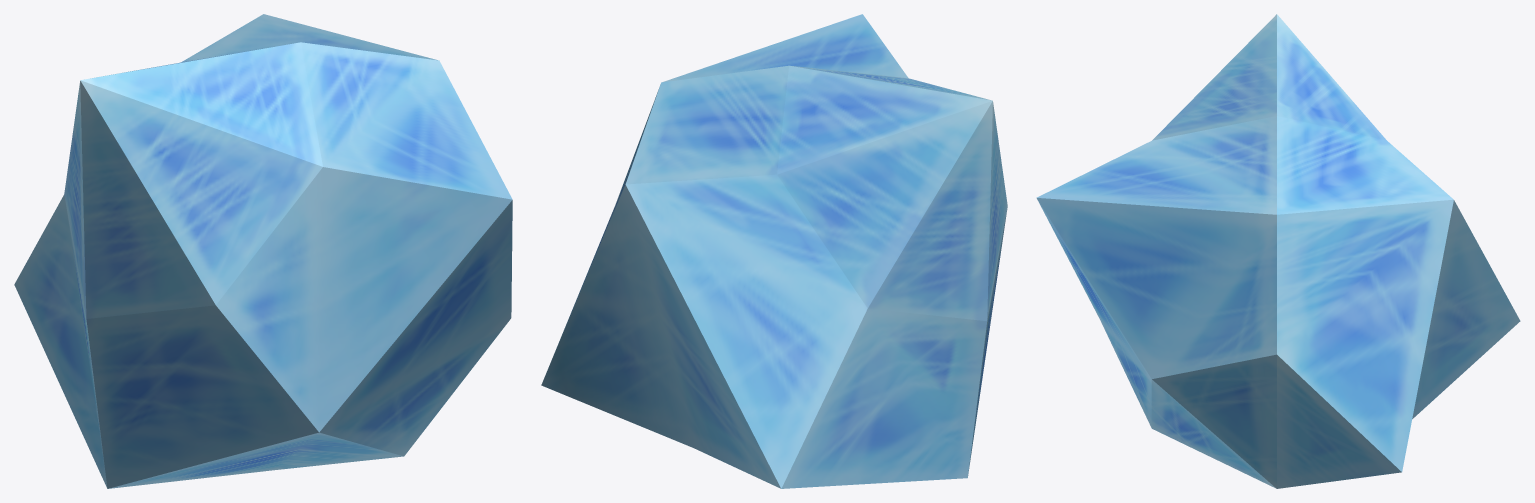
File: TDProjectileSlow.fbx
3 renders of one model, left to right at view 1: azimuth 30°, elevation 25°; view 2: azimuth 150°, elevation 25°; view 3: azimuth 270°, elevation 25°, orthographic. The views are drawn at different scales.
Visible parts, largest first — view 1: polySurface34; view 2: polySurface34; view 3: polySurface34.
Boxes of the visible parts, box(x1,y1,x2,y2) form: polySurface34: box(14, 14, 512, 488); polySurface34: box(541, 14, 1007, 488); polySurface34: box(1036, 14, 1520, 488).
Bounding box in the file's own units: 11.29 × 11.42 × 13.88.
